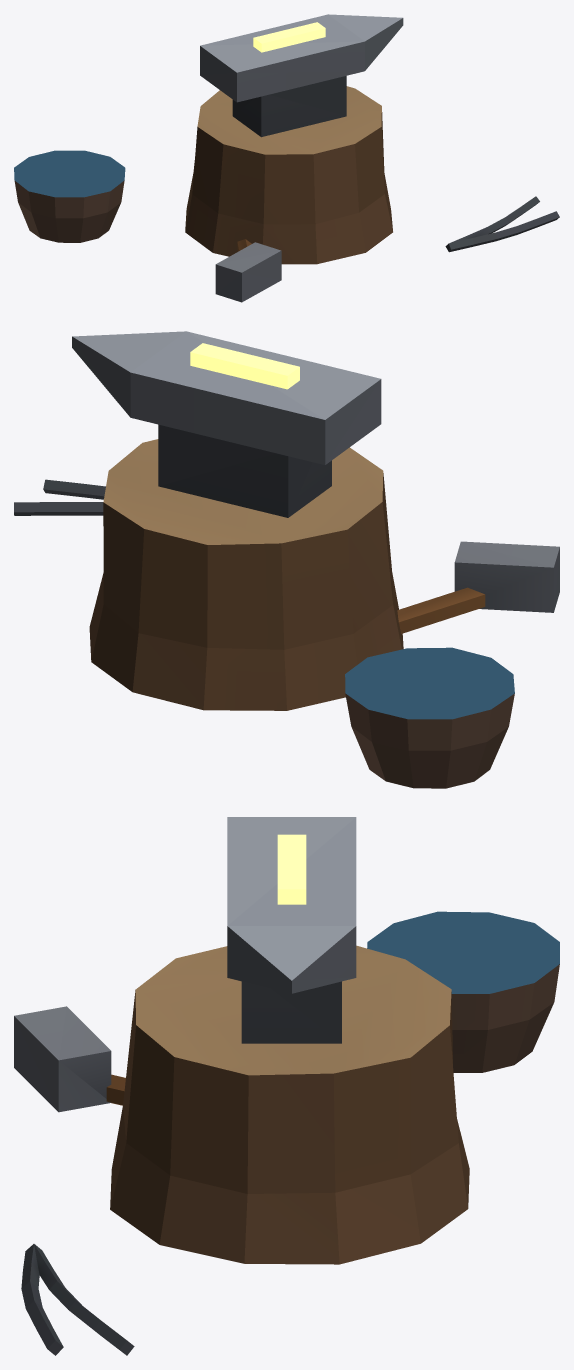
3 views of the same model, one above another, from view 1: azimuth 30°, elevation 25°; view 2: azimuth 150°, elevation 25°; view 3: azimuth 270°, elevation 25° (orthographic). The views are drawn at different scales.
Visible parts, largest first — view 1: base; view 2: base; view 3: base.
Boxes of the visible parts, <box> form: base: <box>14,14,559,302</box>; base: <box>14,331,559,788</box>; base: <box>14,817,559,1355</box>.
Size of the model in its own units: 0.5911 by 0.252 by 0.3812.
